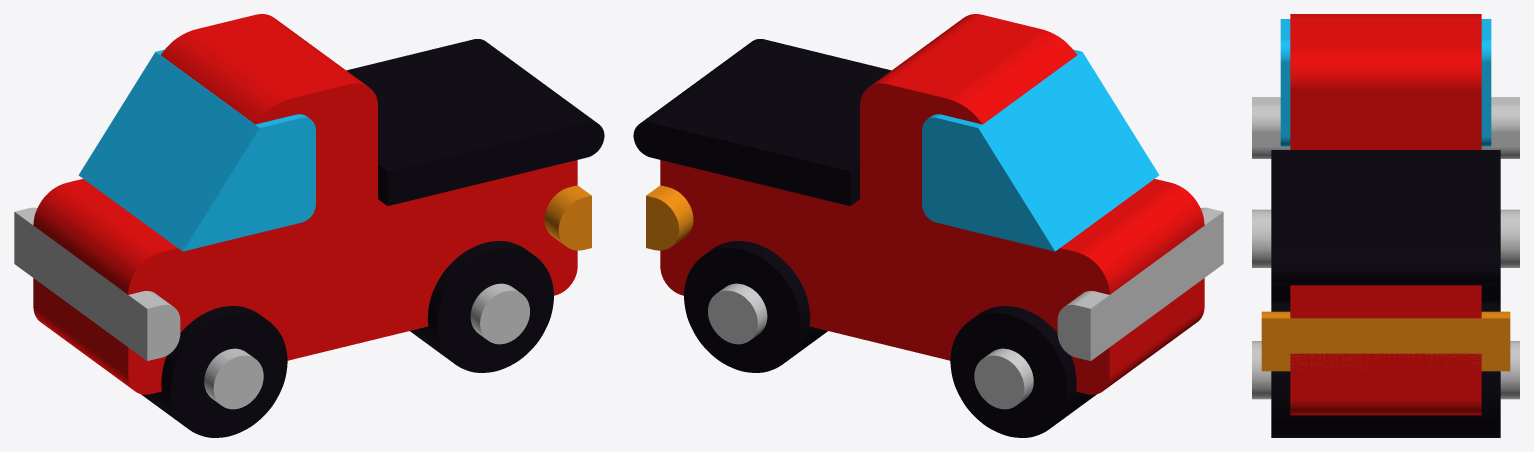
The picture shows the model from 3 angles, left to right: view 1: azimuth 30°, elevation 25°; view 2: azimuth 150°, elevation 25°; view 3: azimuth 270°, elevation 25°; orthographic projection.
Visible parts, largest first — view 1: U+1F6FB_layer00_obj00, U+1F6FB_layer02_obj00, U+1F6FB_layer01_obj00, U+1F6FB_layer04_obj00, U+1F6FB_layer03_obj00; view 2: U+1F6FB_layer00_obj00, U+1F6FB_layer02_obj00, U+1F6FB_layer01_obj00, U+1F6FB_layer04_obj00, U+1F6FB_layer03_obj00; view 3: U+1F6FB_layer00_obj00, U+1F6FB_layer02_obj00, U+1F6FB_layer03_obj00, U+1F6FB_layer04_obj00, U+1F6FB_layer01_obj00.
Part boxes in pixels (x1,y1,x2,y2): U+1F6FB_layer00_obj00: [33, 14, 577, 394]; U+1F6FB_layer02_obj00: [141, 39, 604, 437]; U+1F6FB_layer01_obj00: [78, 49, 315, 251]; U+1F6FB_layer04_obj00: [14, 207, 529, 409]; U+1F6FB_layer03_obj00: [544, 185, 591, 250]; U+1F6FB_layer00_obj00: [660, 14, 1204, 394]; U+1F6FB_layer02_obj00: [633, 39, 1096, 437]; U+1F6FB_layer01_obj00: [922, 49, 1159, 251]; U+1F6FB_layer04_obj00: [708, 207, 1223, 409]; U+1F6FB_layer03_obj00: [646, 185, 693, 250]; U+1F6FB_layer00_obj00: [1290, 14, 1481, 415]; U+1F6FB_layer02_obj00: [1271, 150, 1500, 437]; U+1F6FB_layer03_obj00: [1261, 311, 1510, 371]; U+1F6FB_layer04_obj00: [1252, 97, 1519, 399]; U+1F6FB_layer01_obj00: [1280, 19, 1491, 146].
Bounding box in the file's own units: 0.5687 × 0.3648 × 0.28.
